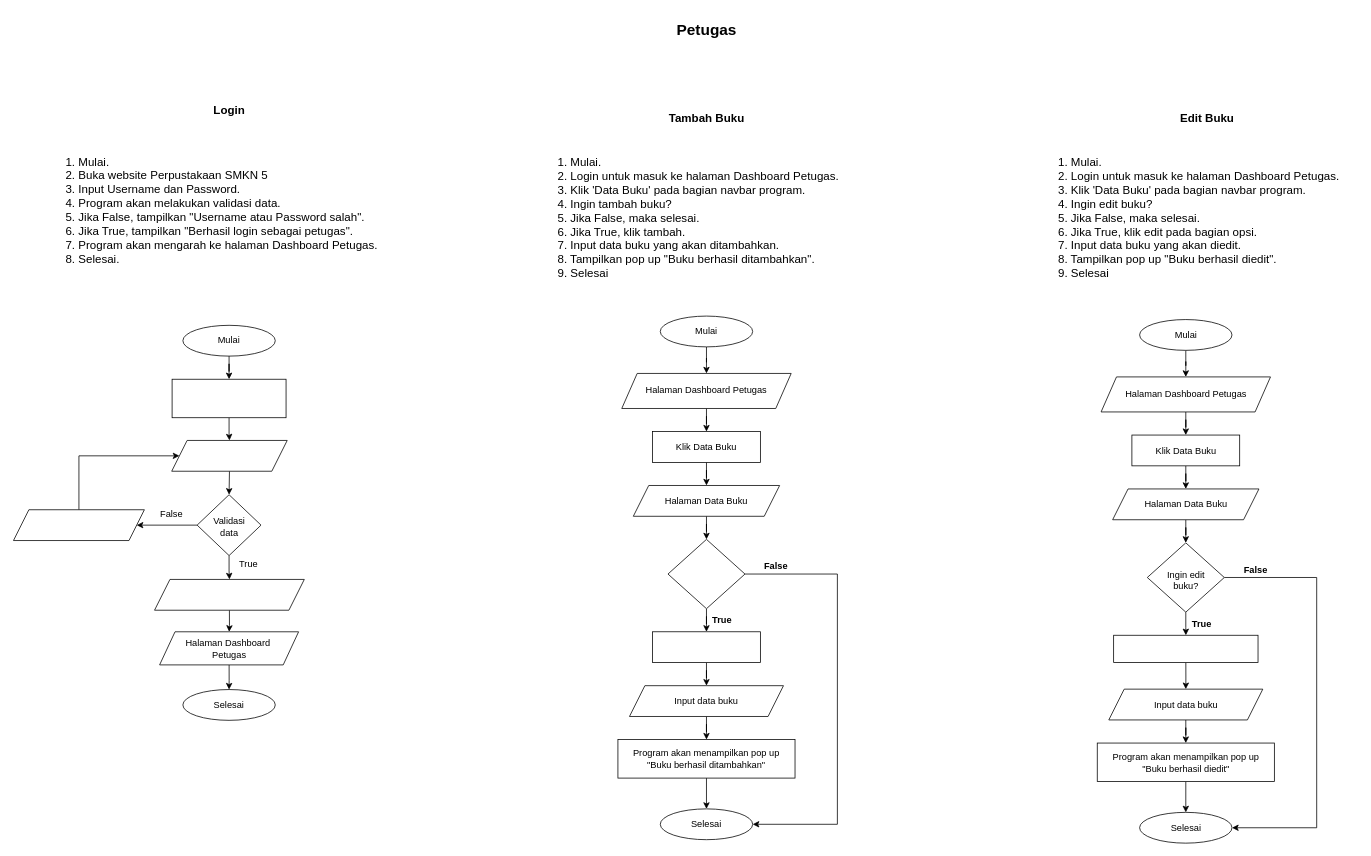
The diagram is 1371 pixels wide and 856 high, and some of its shapes have lost their labels. Here are the shapes that lost their labels. From the top down, the centre of each, then its label:
the point at 228,398: Buka website Perpustakaan Digital
the point at 229,455: Input username dan password
the point at 78,525: Alert "Username atau Password salah"
the point at 229,594: Alert "Berhasil login sebagai petugas"
the point at 706,574: Ingin tambah buku?
the point at 706,647: Klik Tambah
the point at 1185,648: Klik edit pada bagian opsi buku
